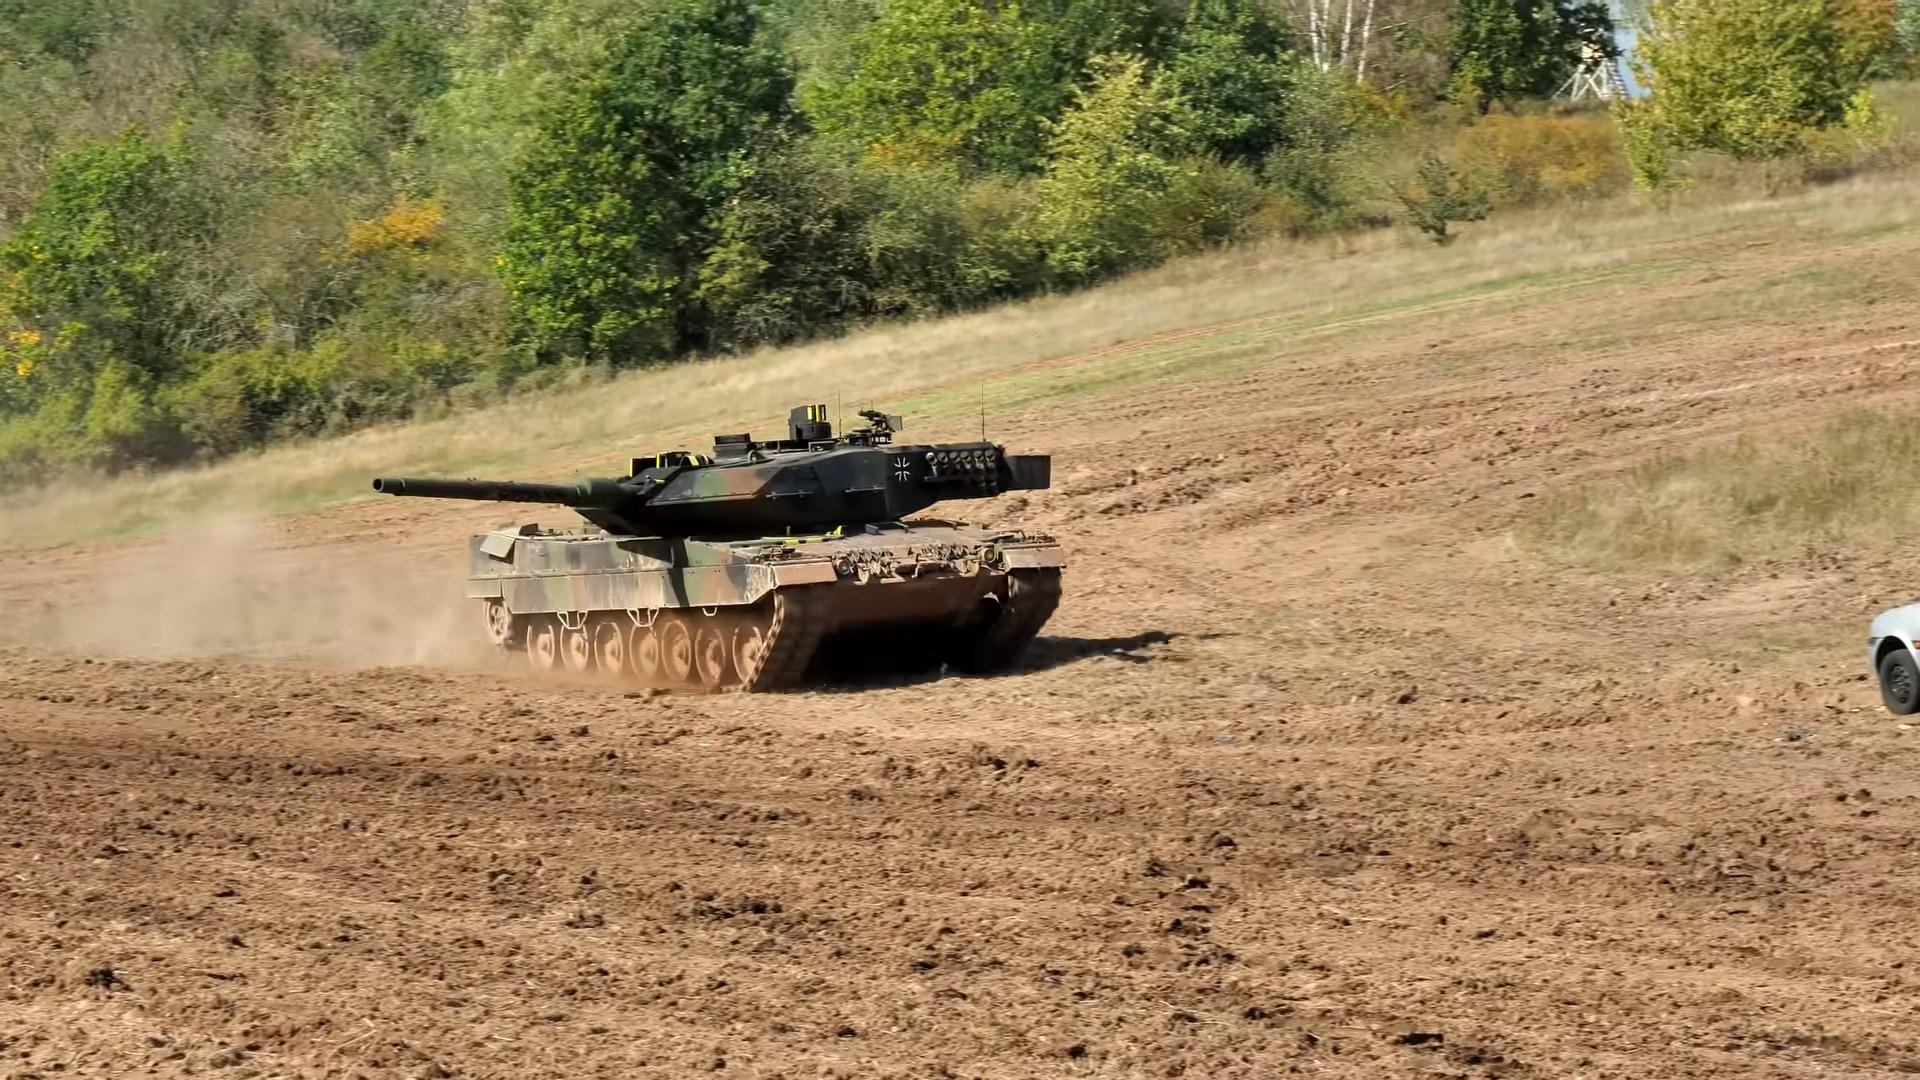tank: (372, 433, 1066, 690)
